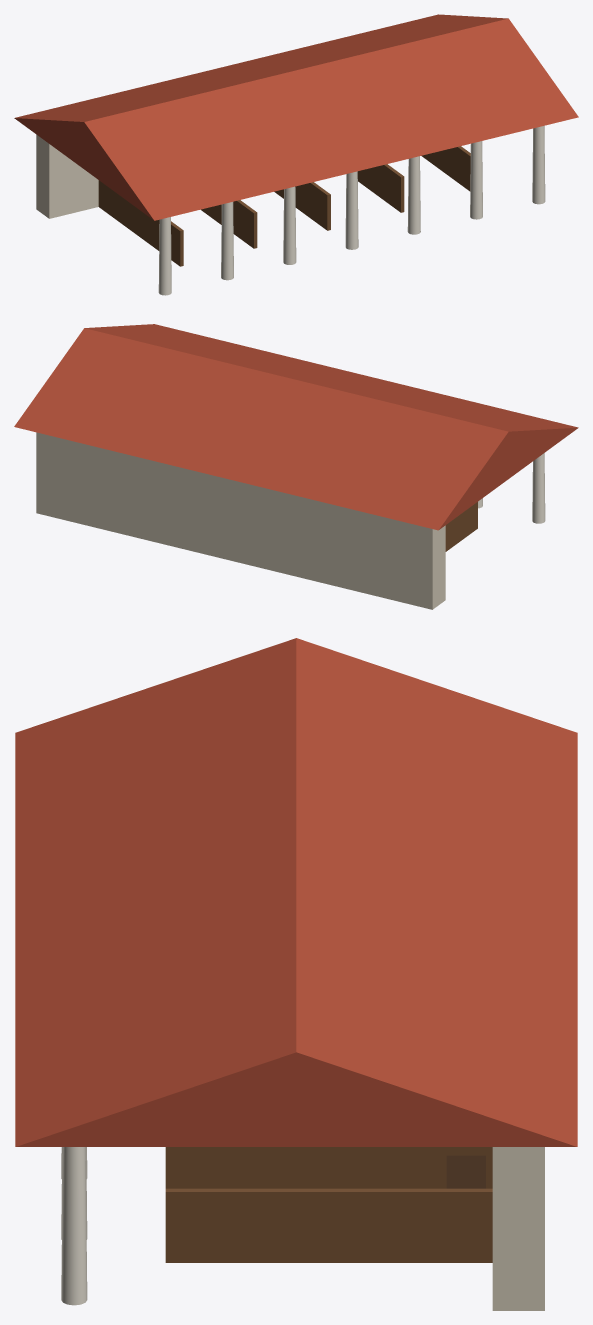
File: stable.glb
3 views of the same model, one above another, from view 1: azimuth 30°, elevation 25°; view 2: azimuth 150°, elevation 25°; view 3: azimuth 270°, elevation 25° (orthographic). The views are drawn at different scales.
Parts seen in each view (by area): view 1: Stable; view 2: Stable; view 3: Stable.
Boxes of the visible parts, x1,y1,x2,y2 form: Stable: (14, 14, 578, 295); Stable: (14, 324, 578, 609); Stable: (15, 638, 577, 1310).
Bounding box in the file's own units: 15 × 4.6 × 8.6.
